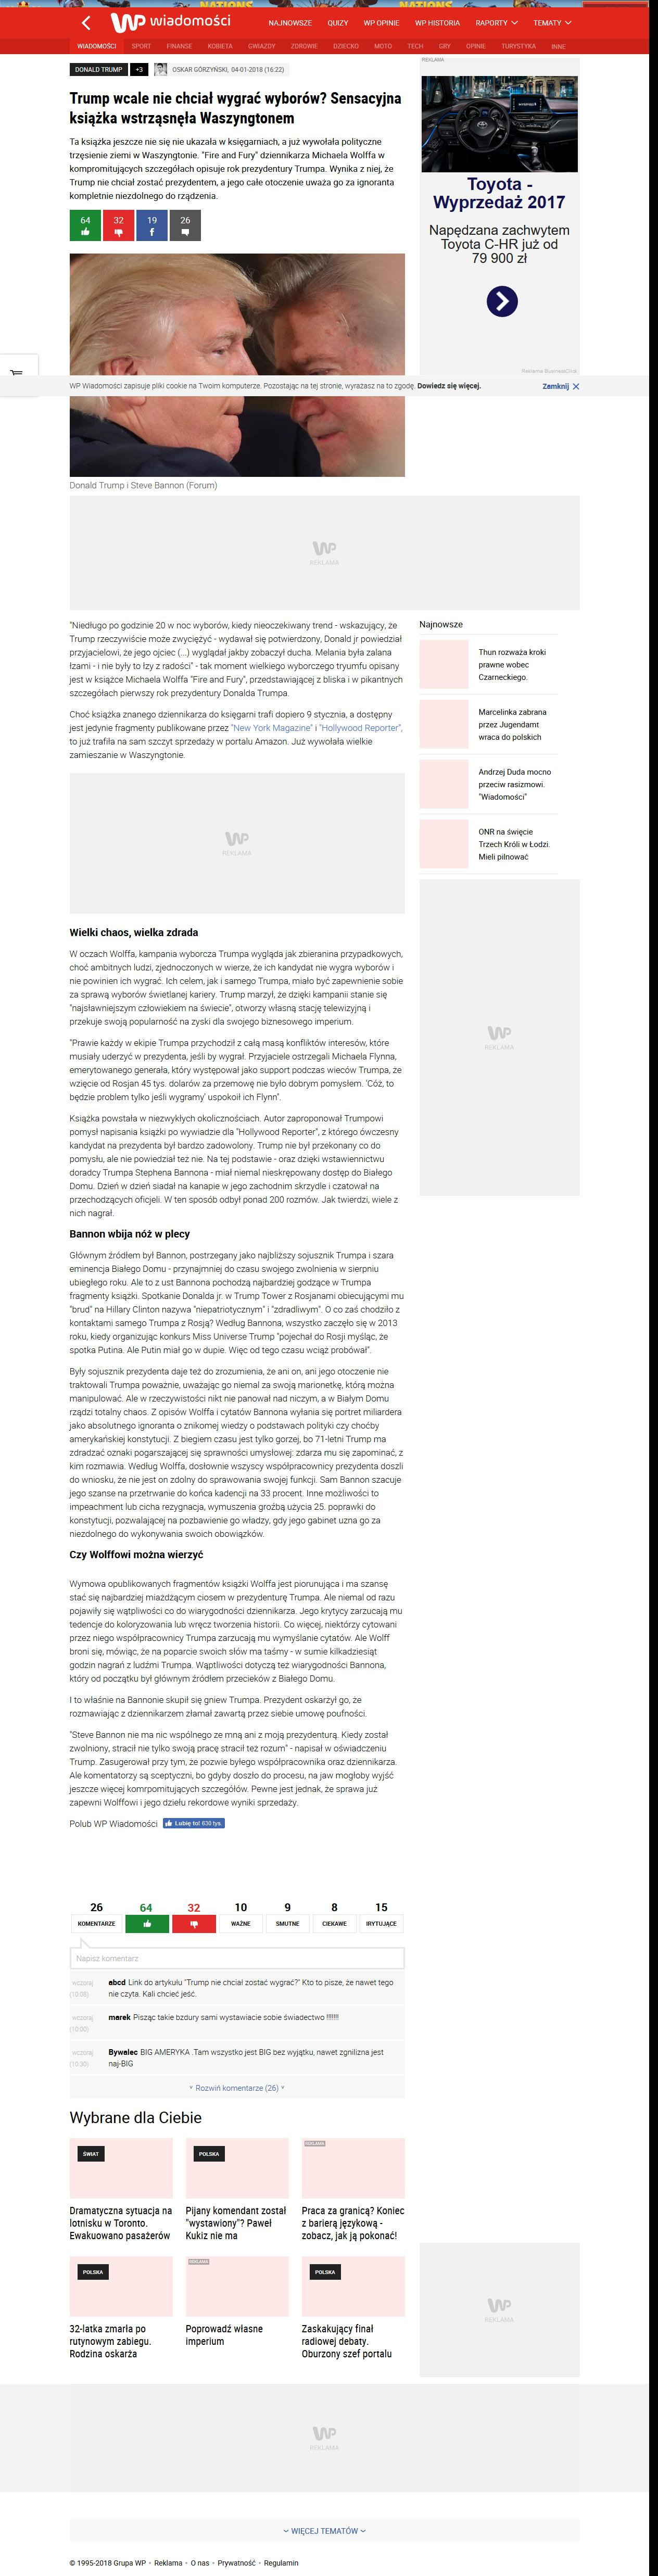title: (69, 90, 402, 127)
